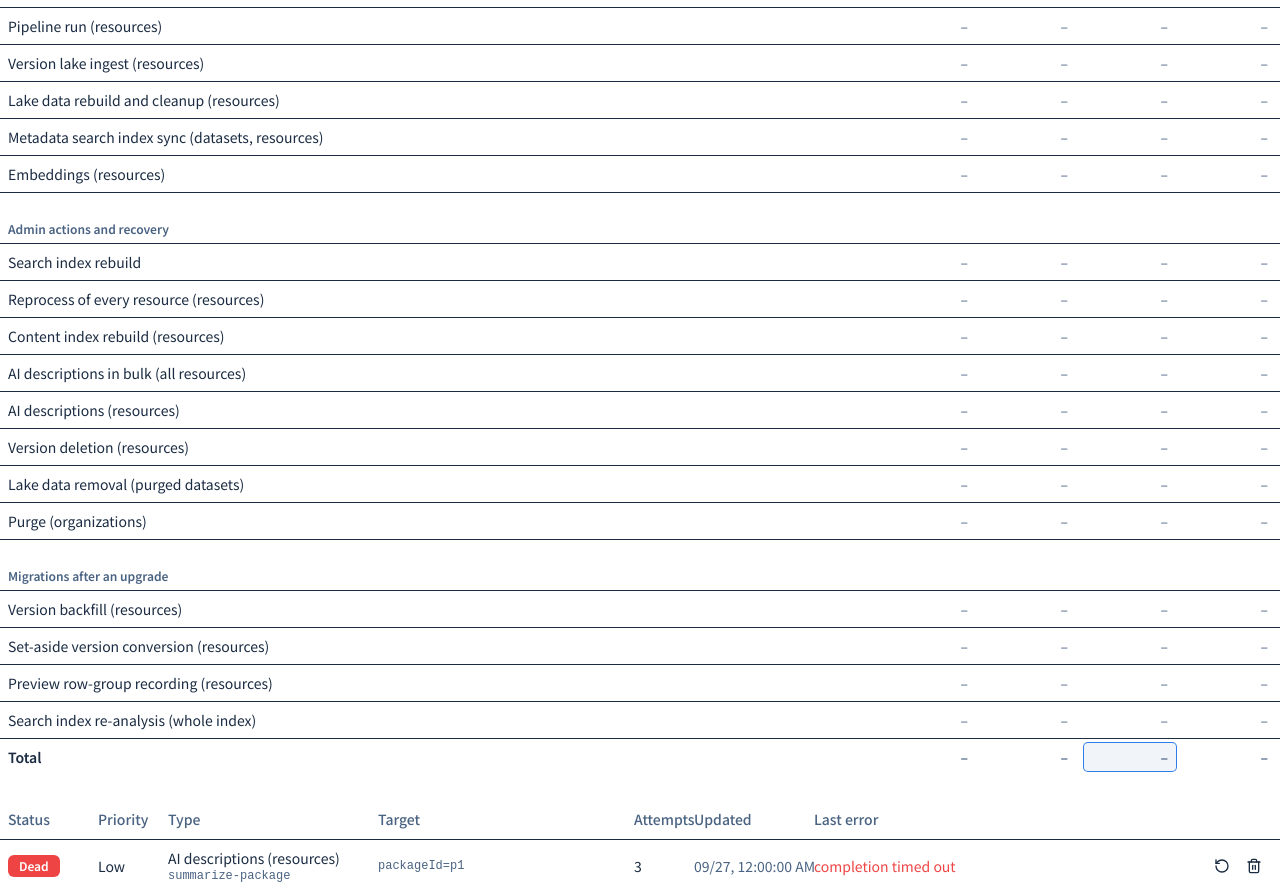
Test case: AdminQueuePage › closes the delete dialog once the delete succeeded, whether or not the counts reload
(page scrolled)
Click the button named "Delete" at coordinates (1254, 866), box [1240,852,1268,880]
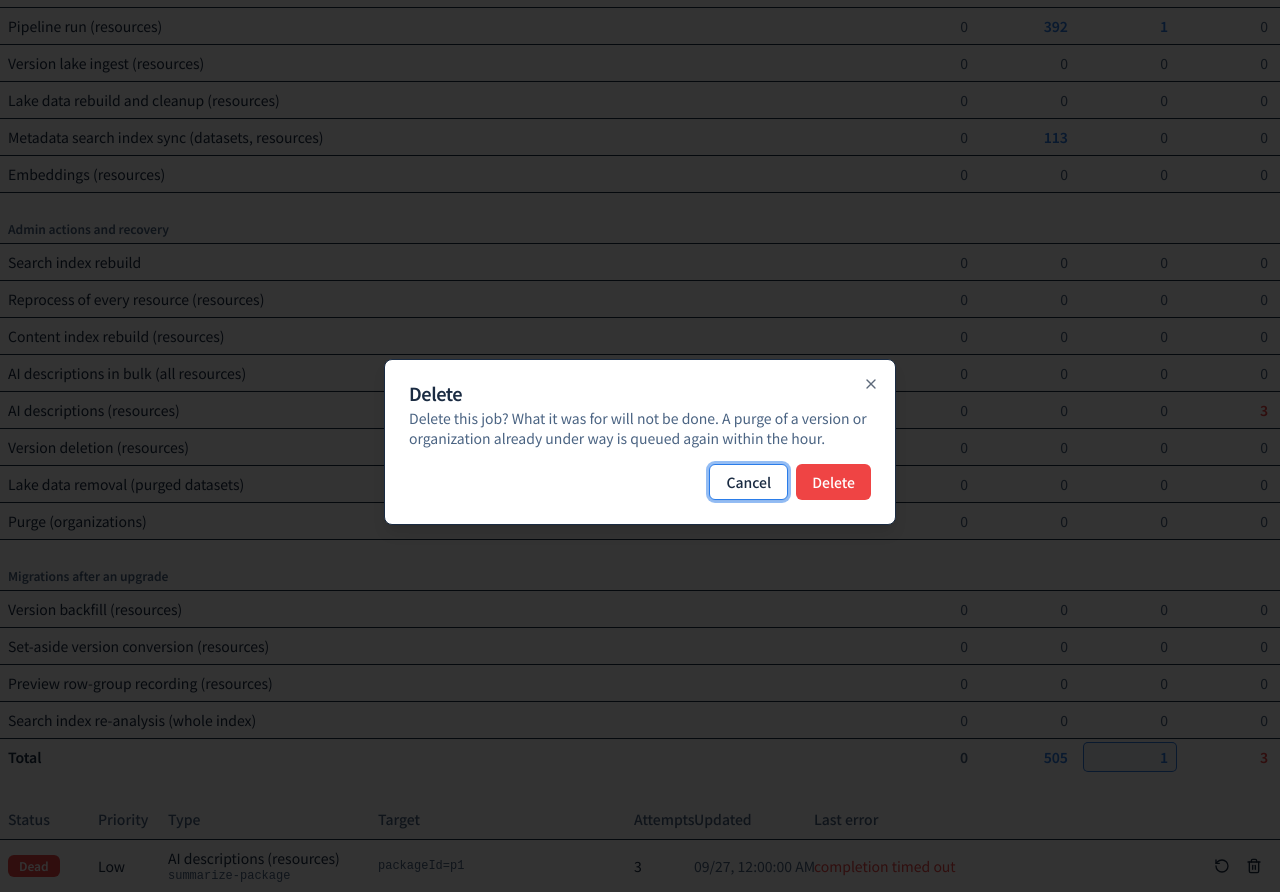
Click the button "Delete" at coordinates (834, 482), box [796,464,871,500]
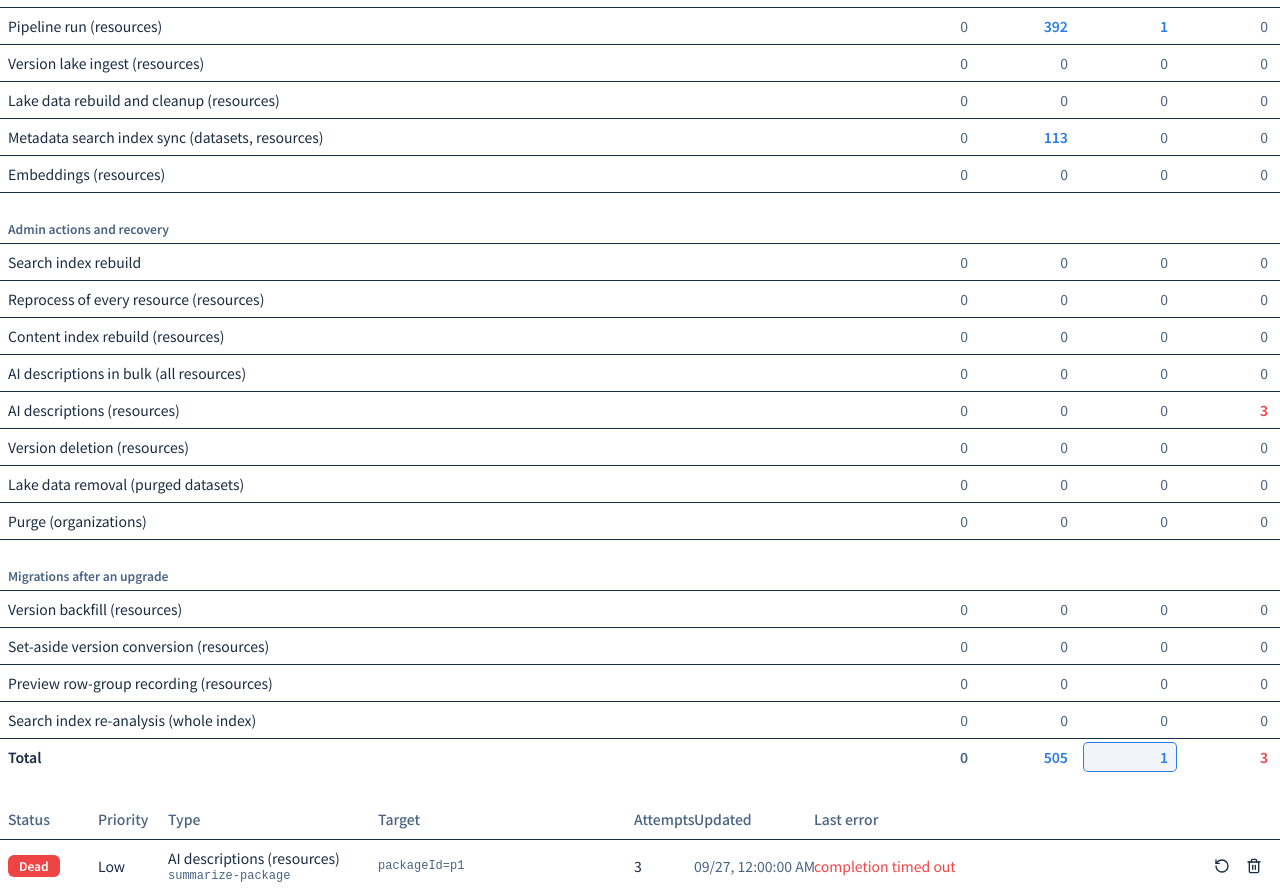
Now the dialog is gone
